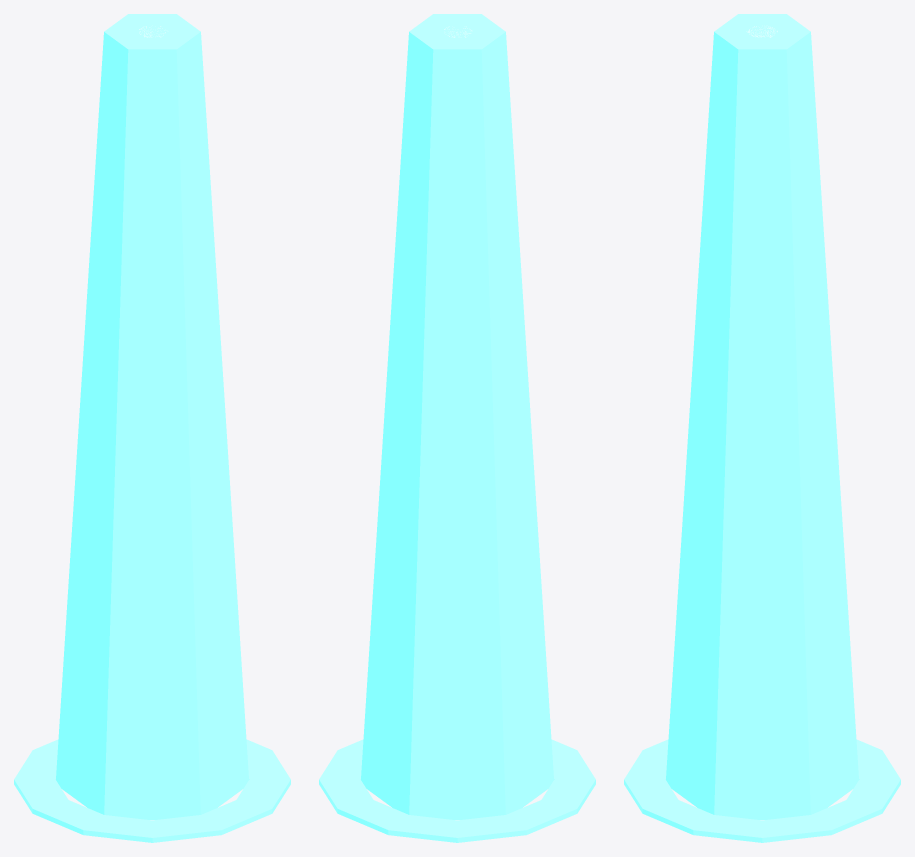
Rendered from fx_tendo_pillar.glb.
3 views of the same model, side by side, from view 1: azimuth 30°, elevation 25°; view 2: azimuth 150°, elevation 25°; view 3: azimuth 270°, elevation 25° (orthographic).
Parts seen in each view (by area): view 1: fx_tendo_pillar; view 2: fx_tendo_pillar; view 3: fx_tendo_pillar.
Part boxes in pixels (left/top/right/bottom): fx_tendo_pillar: left=14, top=14, right=290, bottom=842; fx_tendo_pillar: left=319, top=14, right=595, bottom=842; fx_tendo_pillar: left=624, top=14, right=900, bottom=842.
Size of the model in its own units: 2 by 6 by 2.
